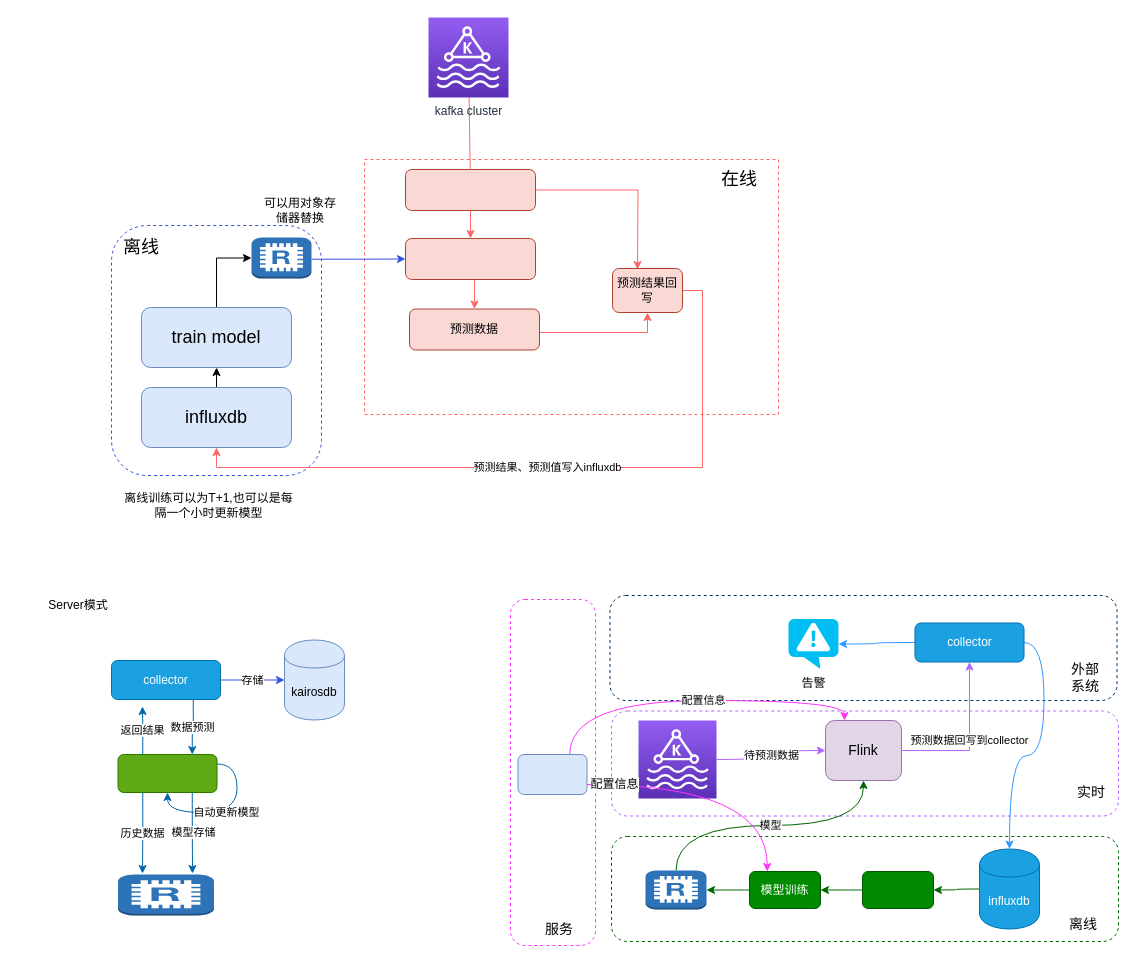
This 1136x963 diagram has some shape labels left out. Here are the shapes that lost their labels. From the top down, the box of each, then its label:
(404, 168, 536, 210): 真实数据（1分钟）
(404, 238, 536, 280): 模型预测
(117, 754, 217, 792): 模型预测server
(517, 754, 587, 794): AIOPS服务
(638, 720, 716, 798): MQ
(862, 870, 934, 908): 数据清洗 数据插值
